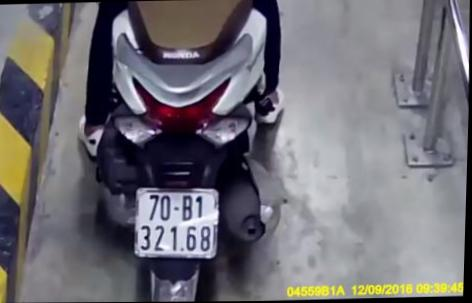LP: (131, 182, 223, 262)
